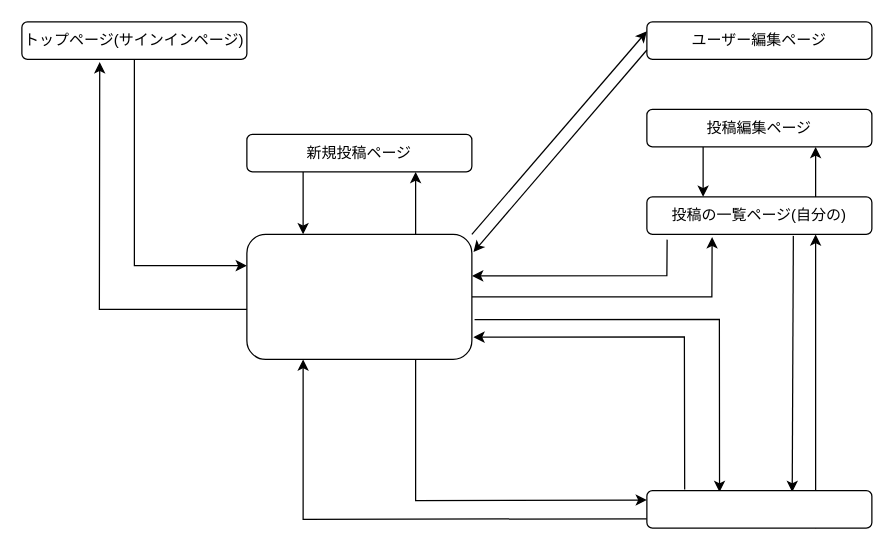
This 894x560 diagram has some shape labels left out. The shapes that lost their labels are listed below. From the top down, each one's centre as x and y in pixels, then its label:
At [359,296]: "マイトップページ".
At [759,508]: "投稿の詳細ページ".
